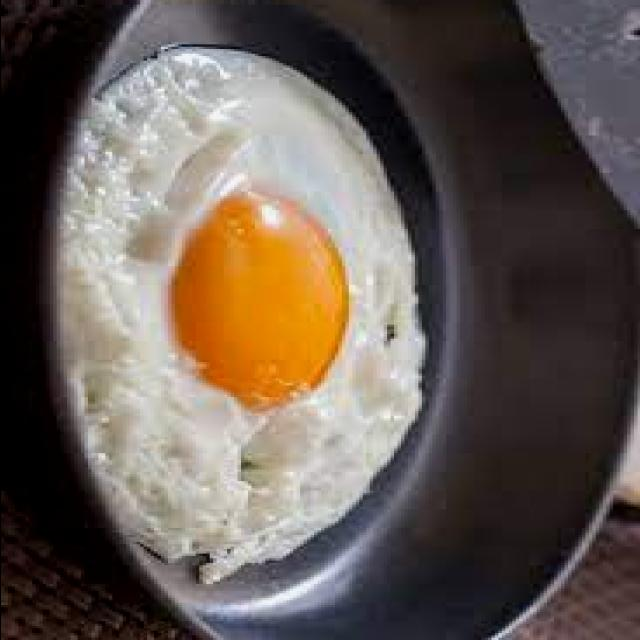telur ceplok: (63, 47, 424, 582)
